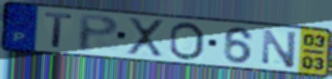6: (222, 26, 256, 65)
N: (261, 28, 299, 70)
O: (167, 21, 206, 62)
P: (78, 13, 122, 54)
T: (43, 11, 75, 50)
X: (126, 16, 165, 58)
